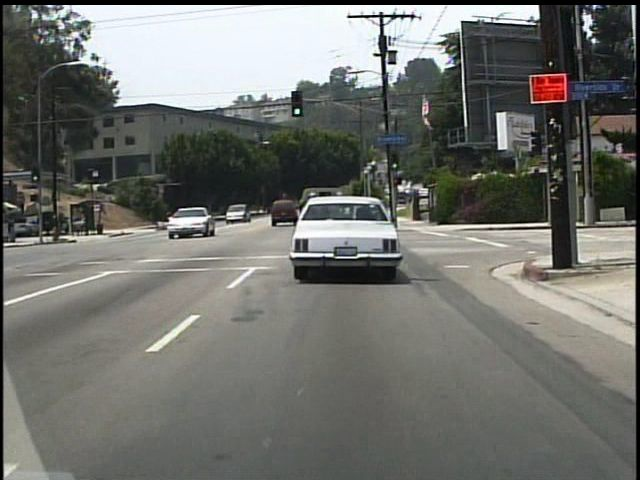person: (166, 209, 174, 230)
